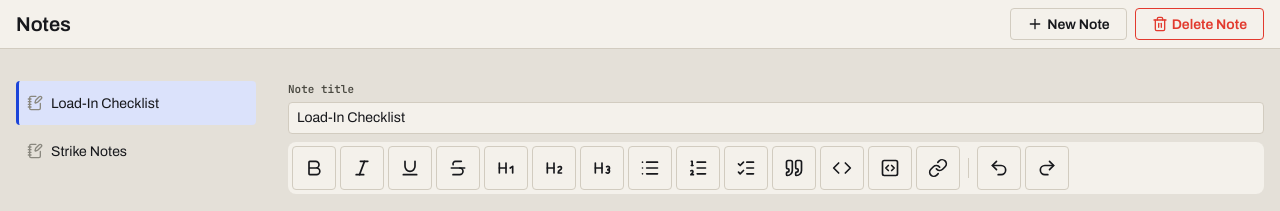
Test: NotesWorkspace › flushes a pending autosave immediately when switching to a different note
Replace the text in the field labelled "Note title" with "Load-In & Strike Checklist" at (776, 118), box [288,102,1264,134]
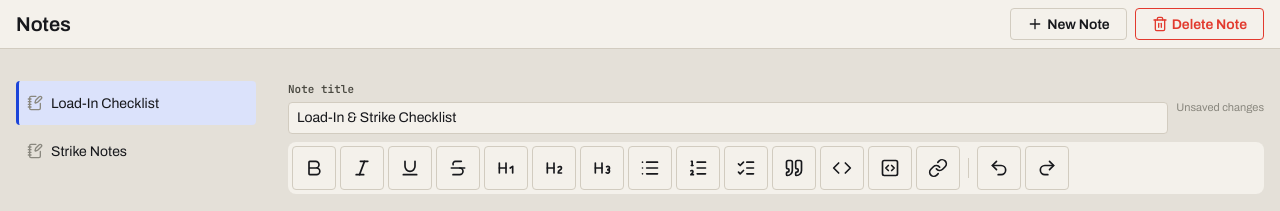
Click the button "Strike Notes" at (136, 151), box [16,129,256,173]
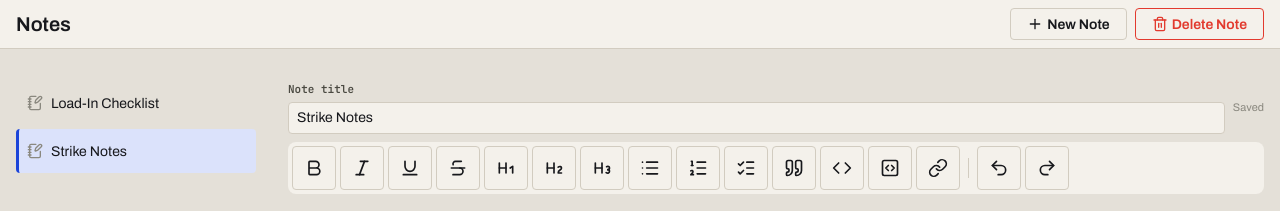
expect the field labelled "Note title" holds "Strike Notes": met, box [288,102,1225,134]
